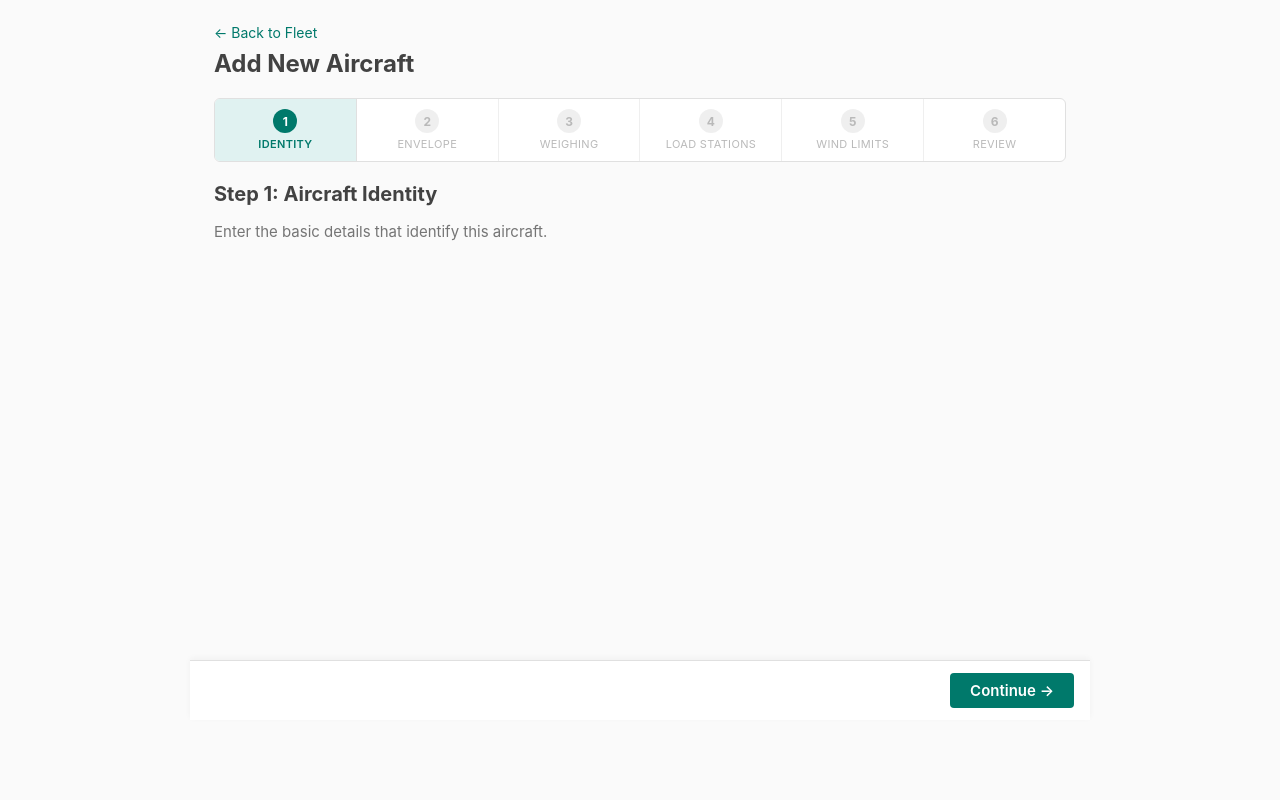
Scenario: AircraftProfileWizardView — post-save chooser & exit modal › Keep editing cancels the navigation and stays in the wizard
Click the button with class "btn-back". click: (266, 32)
box: [214, 24, 317, 41]
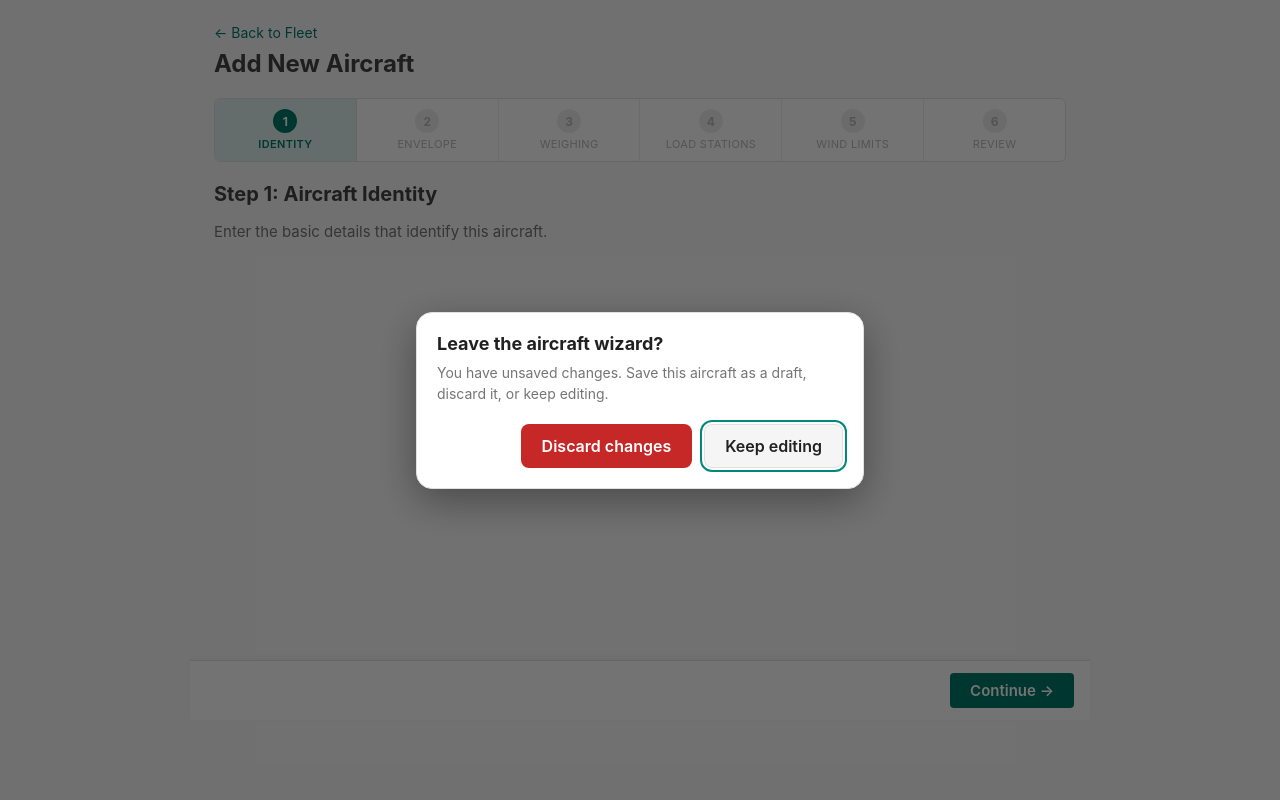
Click the button with class "action-choice__btn" showing "Keep editing". click: (774, 446)
box: [704, 424, 843, 468]
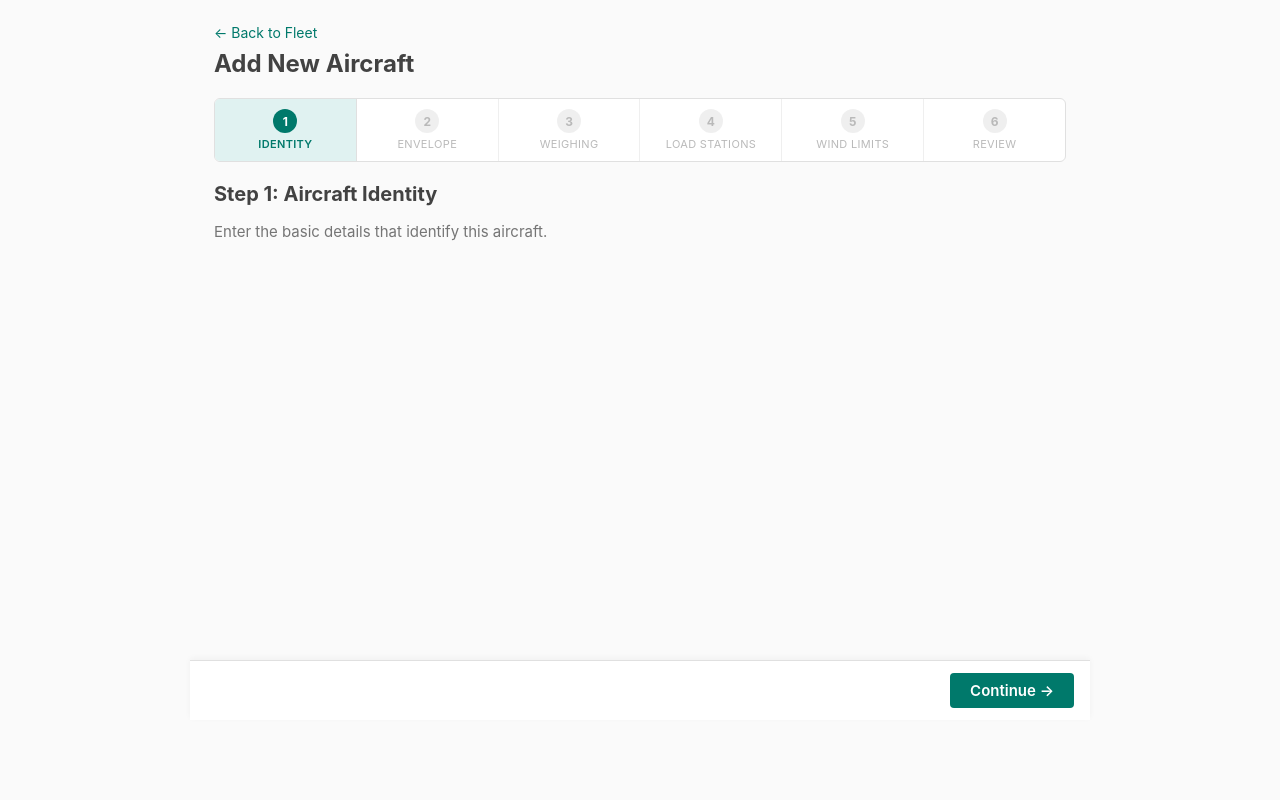
Now the dialog with class "action-choice" is gone
